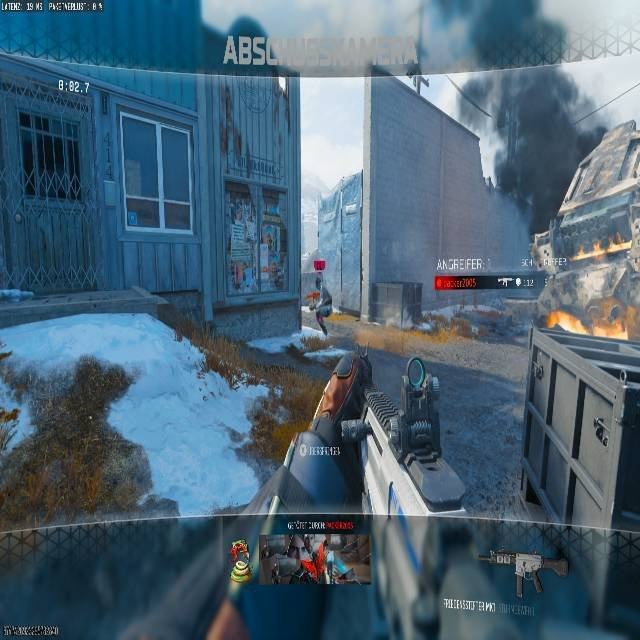player: (304, 279, 331, 337)
